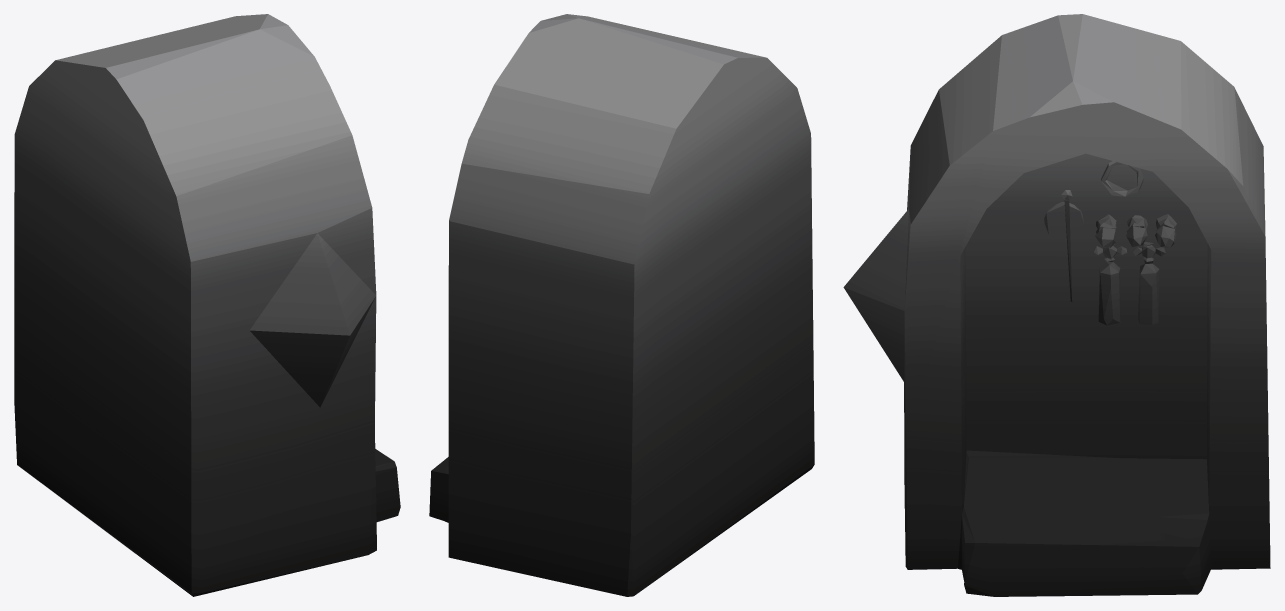
Rendered from EA_Grave_Slab_Tall_01a.glb.
3 views of the same model, side by side, from view 1: azimuth 30°, elevation 25°; view 2: azimuth 150°, elevation 25°; view 3: azimuth 270°, elevation 25° (orthographic).
Visible parts, largest first — view 1: EA_Grave_Slab_Tall_01a; view 2: EA_Grave_Slab_Tall_01a; view 3: EA_Grave_Slab_Tall_01a.
Part boxes in pixels (box(x1,y1,x2,y2)): EA_Grave_Slab_Tall_01a: box(14, 14, 400, 596); EA_Grave_Slab_Tall_01a: box(429, 14, 814, 596); EA_Grave_Slab_Tall_01a: box(843, 14, 1270, 596).
Bounding box in the file's own units: 1.49 × 2.78 × 2.27.
1 material, 1 textured.
